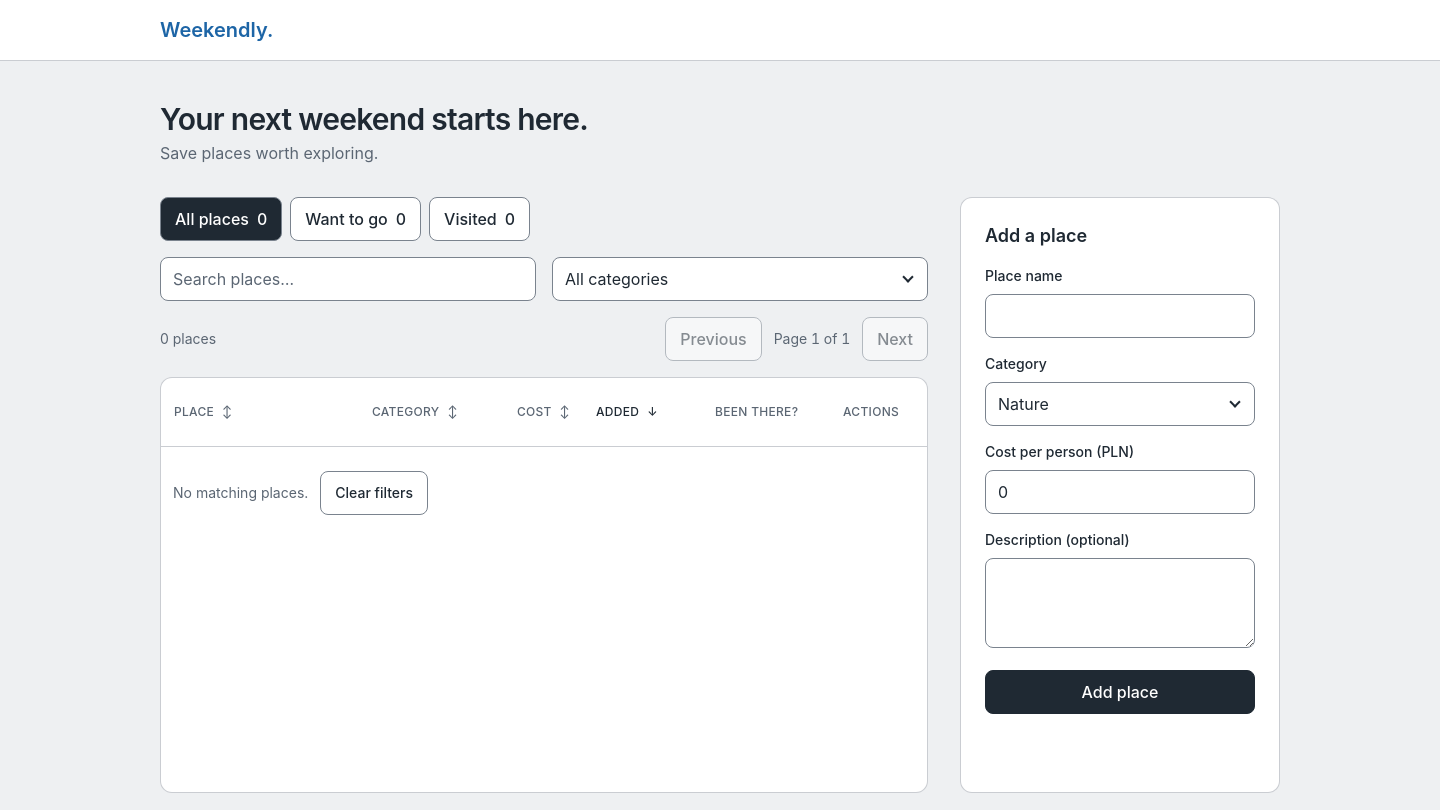
Test case: Weekendly › blocks an invalid name, keeps the form after a failed save, and saves an empty cost as free
The image size is (1440, 810).
Type "x" into the field labelled "Place name" at (1120, 316), box [985,294,1255,338]
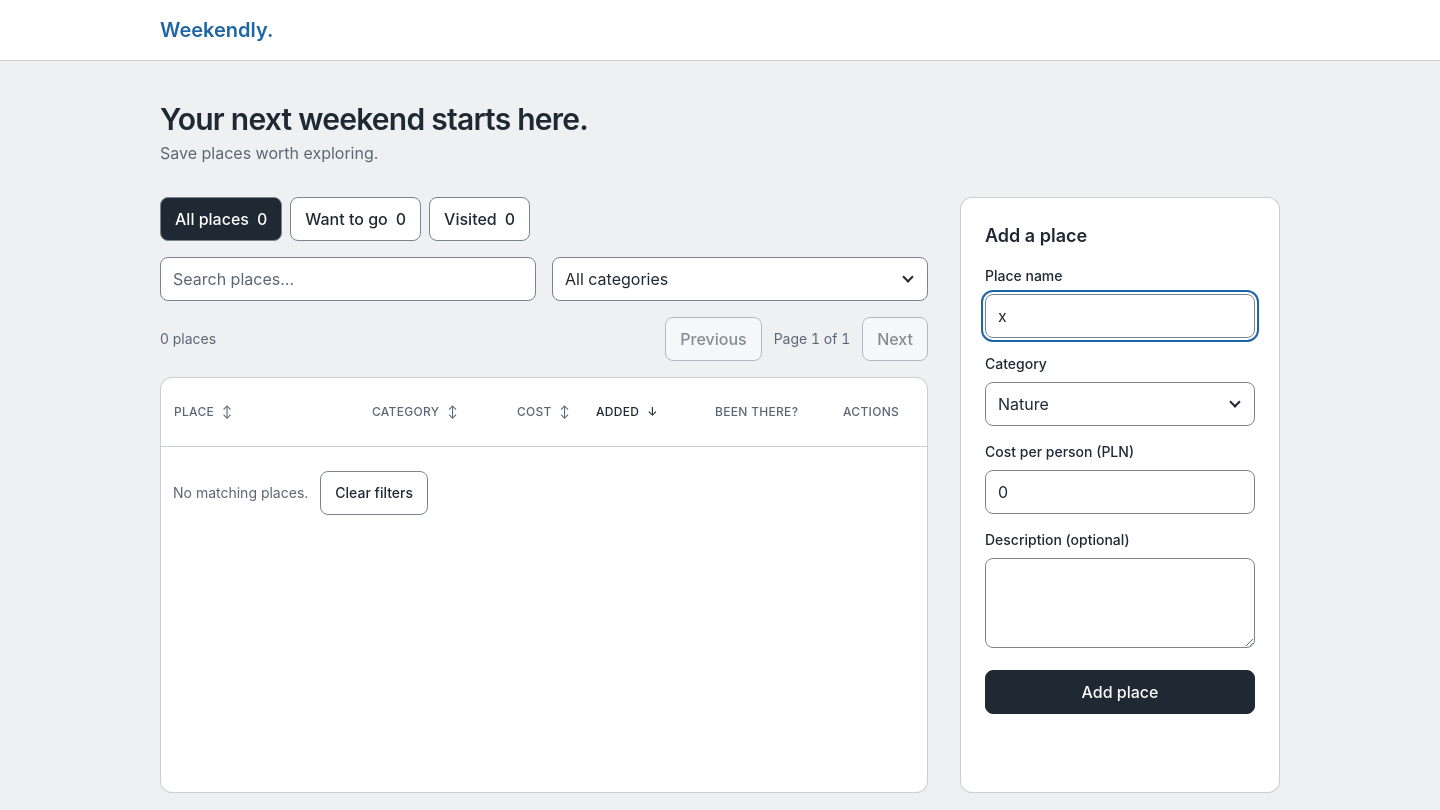
Clear the number field labelled "Cost per person (PLN)" at (1120, 492), box [985,470,1255,514]
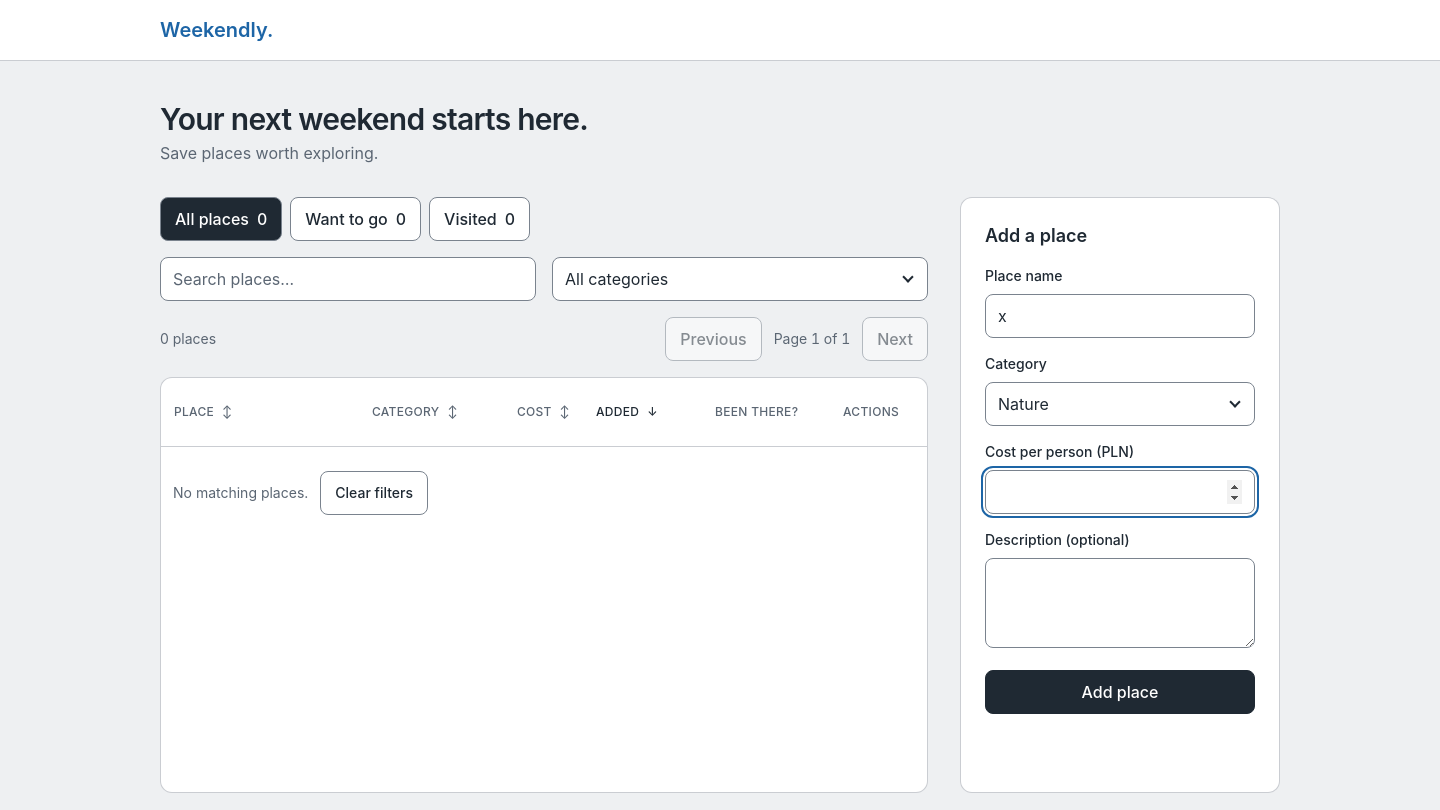
Click the button "Add place" at (1120, 692), box [985,670,1255,714]
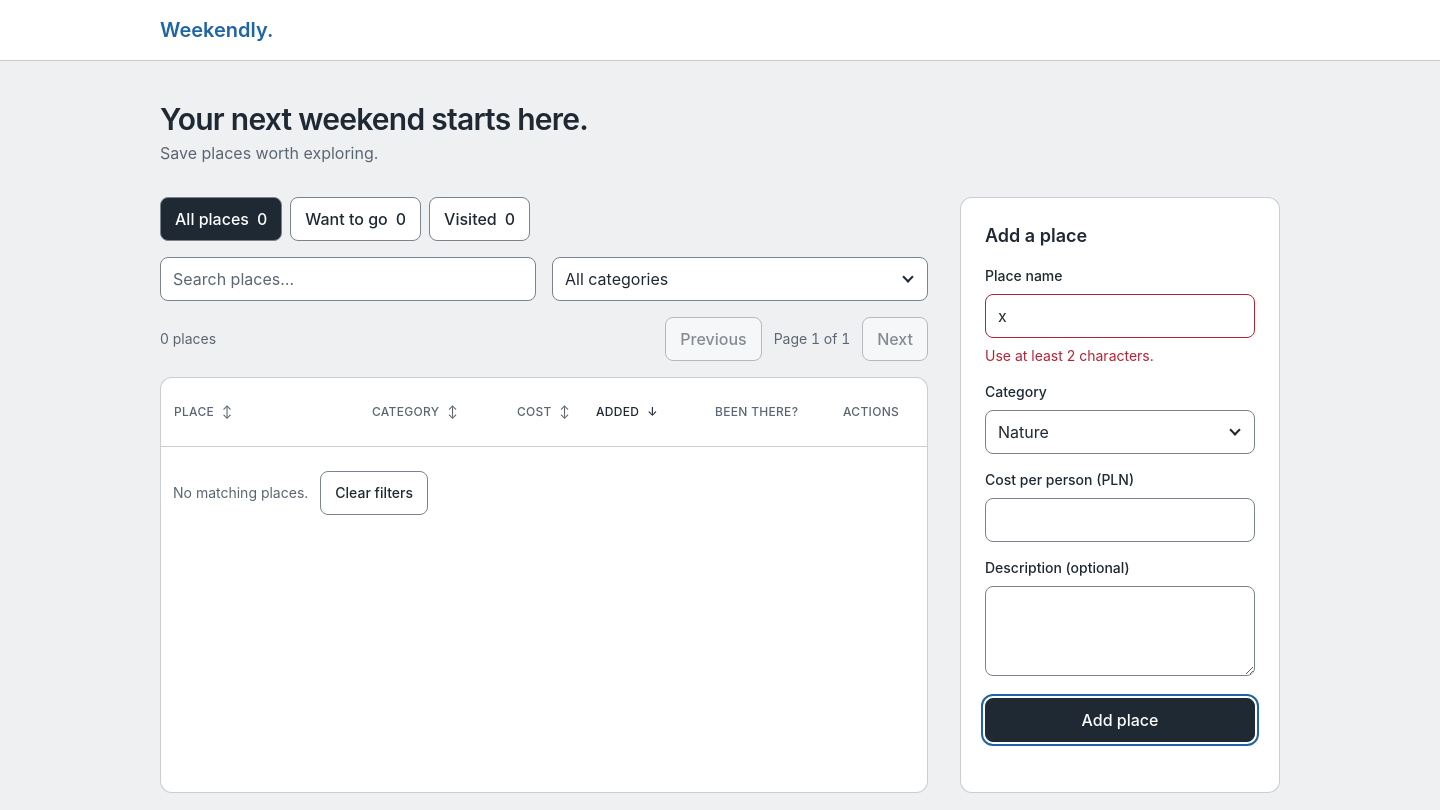
Expected: the text "Use at least 2 characters." is shown, [985,347,1154,364]
Type "anadu" into the field labelled "Place name" at (1120, 316), box [985,294,1255,338]
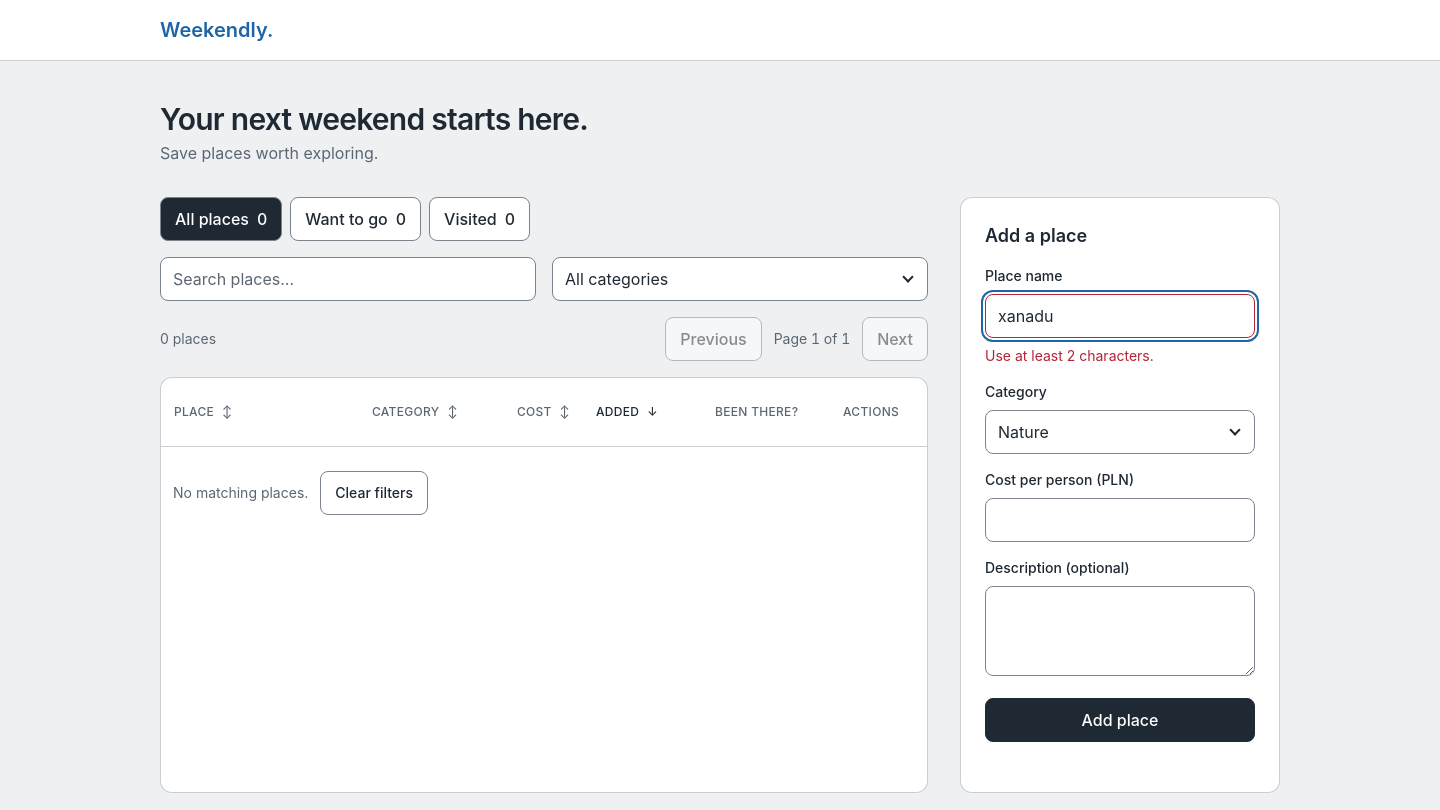
Click the button "Add place" at (1120, 720), box [985,698,1255,742]
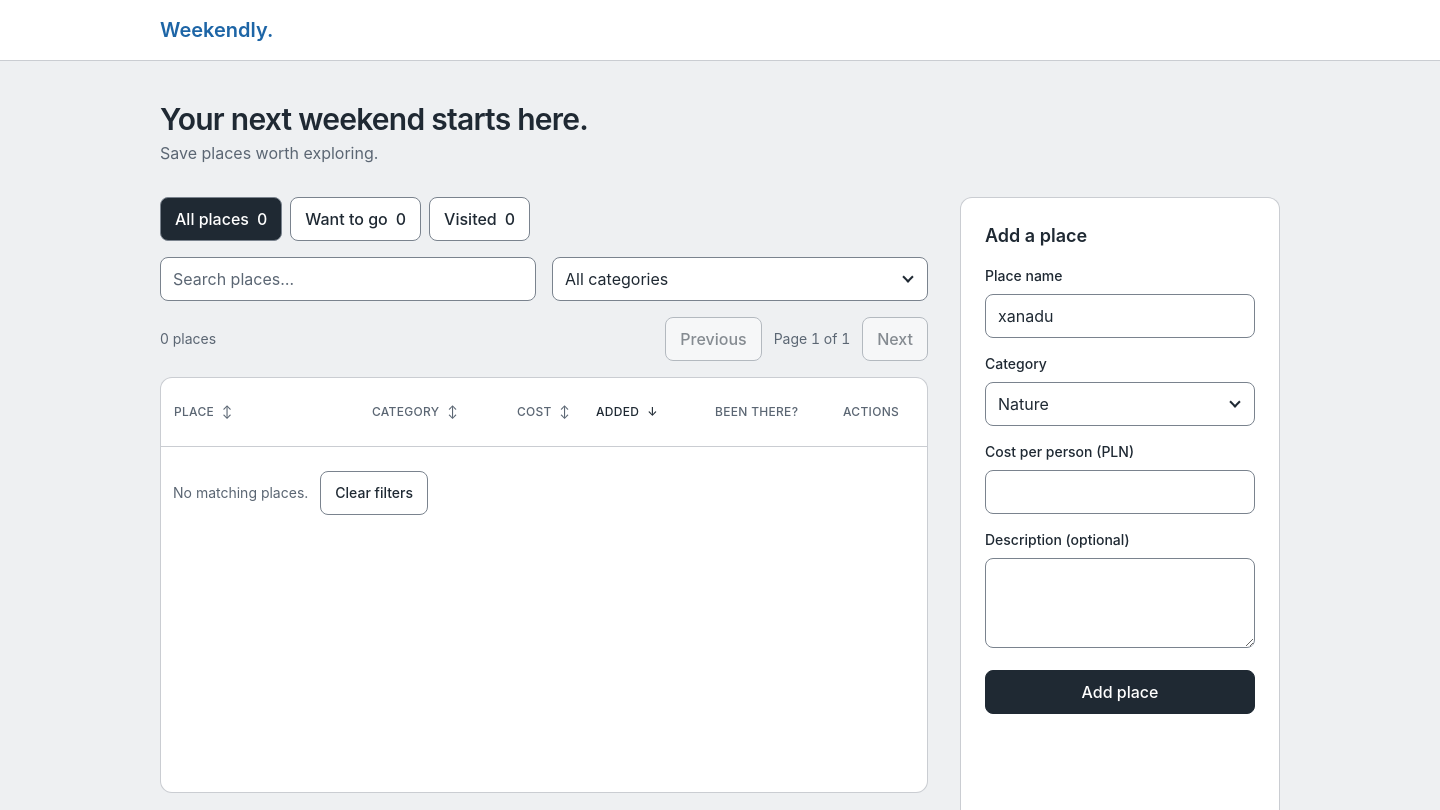
Expected: the field labelled "Place name" holds "xanadu", [985,294,1255,338]
Click the button "Add place" at (1120, 692), box [985,670,1255,714]
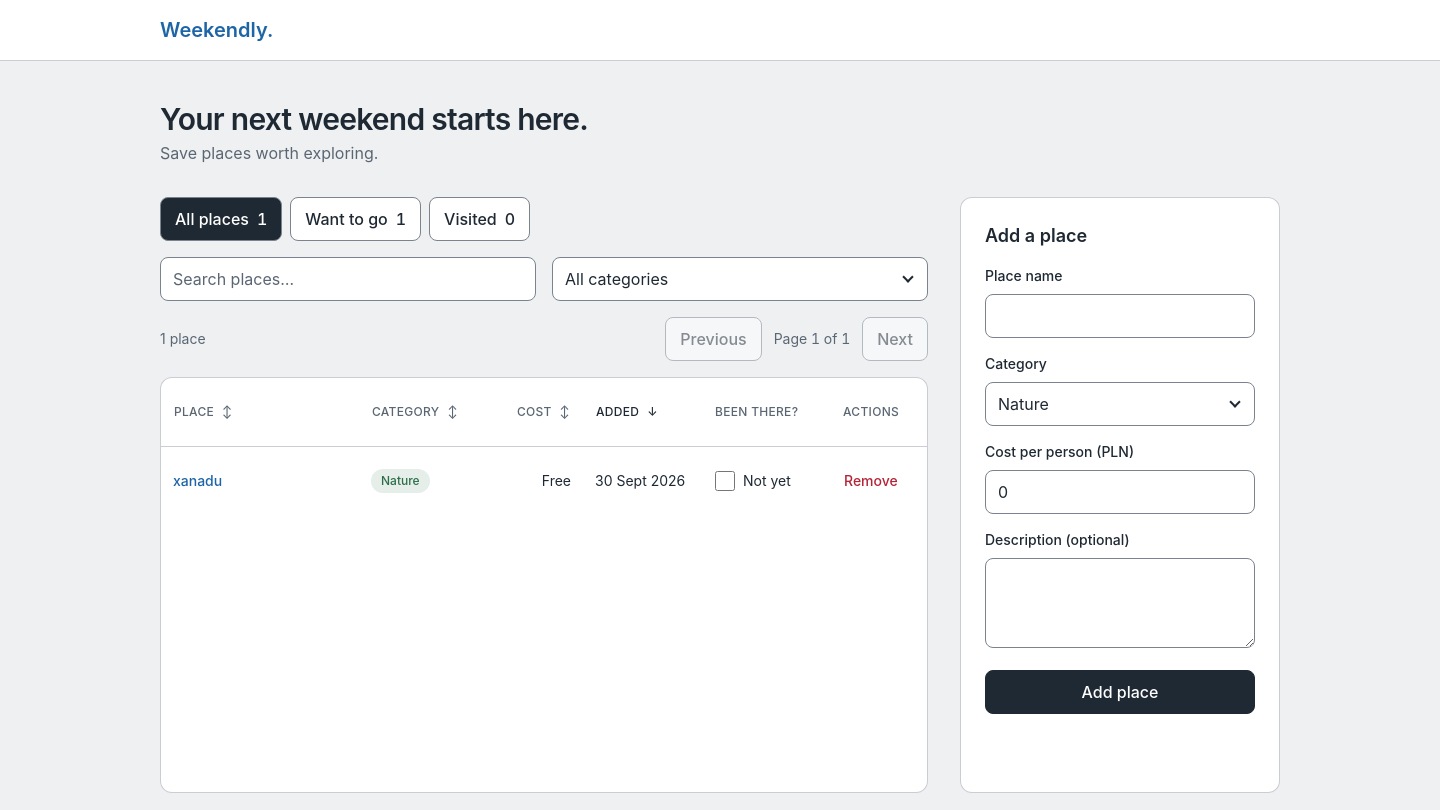
Expected: the cell "xanadu" is shown, [161,446,359,515]
Expected: the row "xanadu Nature Free 30 Sept 2026 Not yet Remove" is shown, [161,446,927,515]
